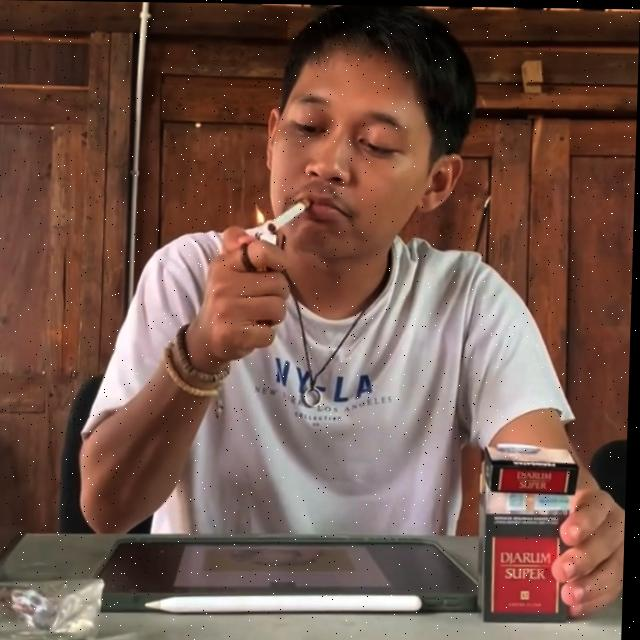cigarette: (268, 196, 312, 233)
